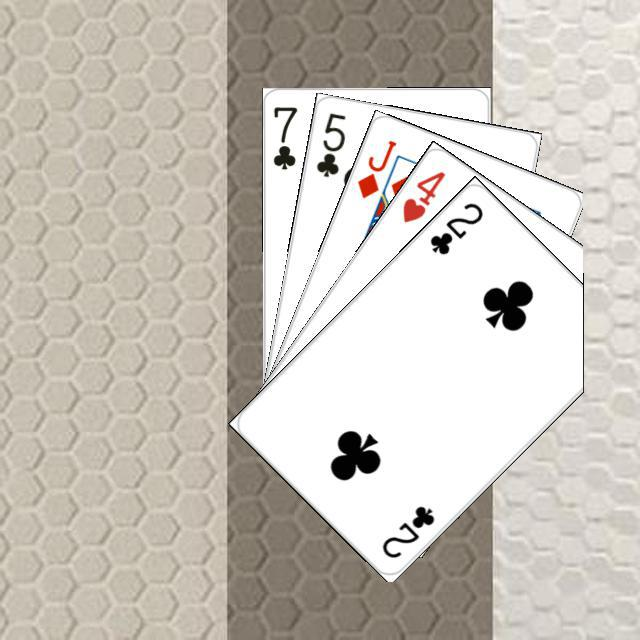2c: (424, 197, 485, 257), (376, 501, 437, 560)
4h: (397, 166, 447, 225)
5c: (311, 107, 347, 179)
7c: (268, 102, 299, 172)
Jd: (352, 135, 399, 201)
